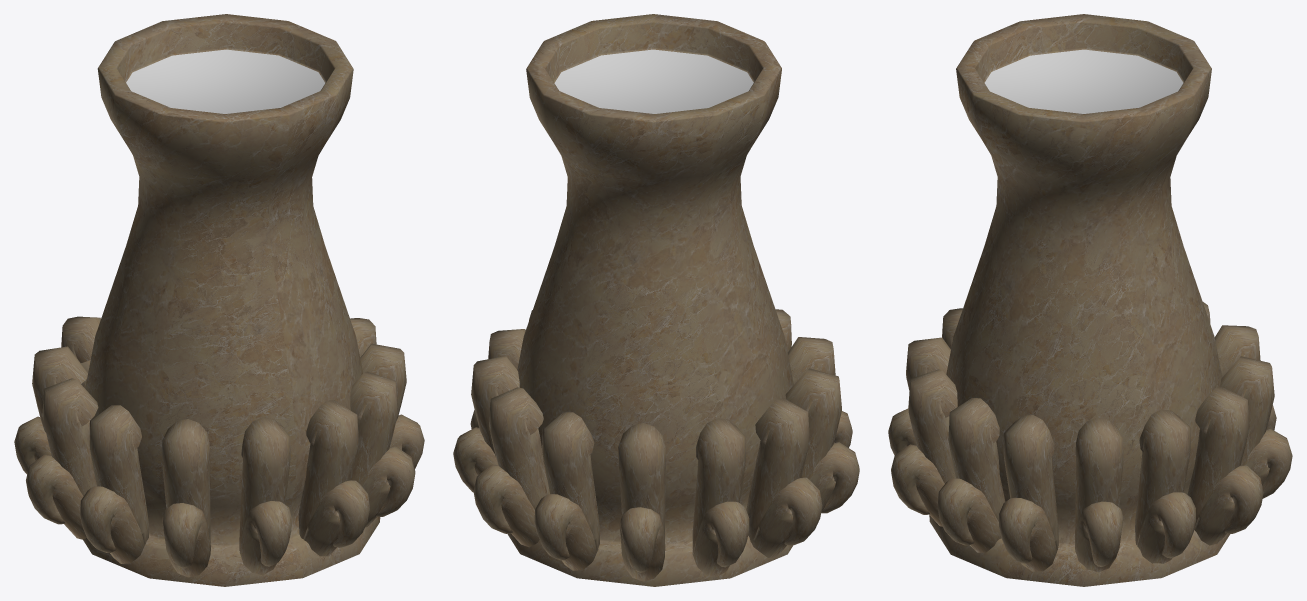
File: vase.fbx
The picture shows the model from 3 angles, left to right: view 1: azimuth 30°, elevation 25°; view 2: azimuth 150°, elevation 25°; view 3: azimuth 270°, elevation 25°; orthographic projection.
Visible parts, largest first — view 1: BezierCircle; view 2: BezierCircle; view 3: BezierCircle.
Part boxes in pixels (box(x1,y1,x2,y2)): BezierCircle: box(14, 14, 424, 586); BezierCircle: box(453, 14, 859, 586); BezierCircle: box(888, 14, 1292, 586).
Size of the model in its own units: 55.05 by 67.82 by 54.7.
